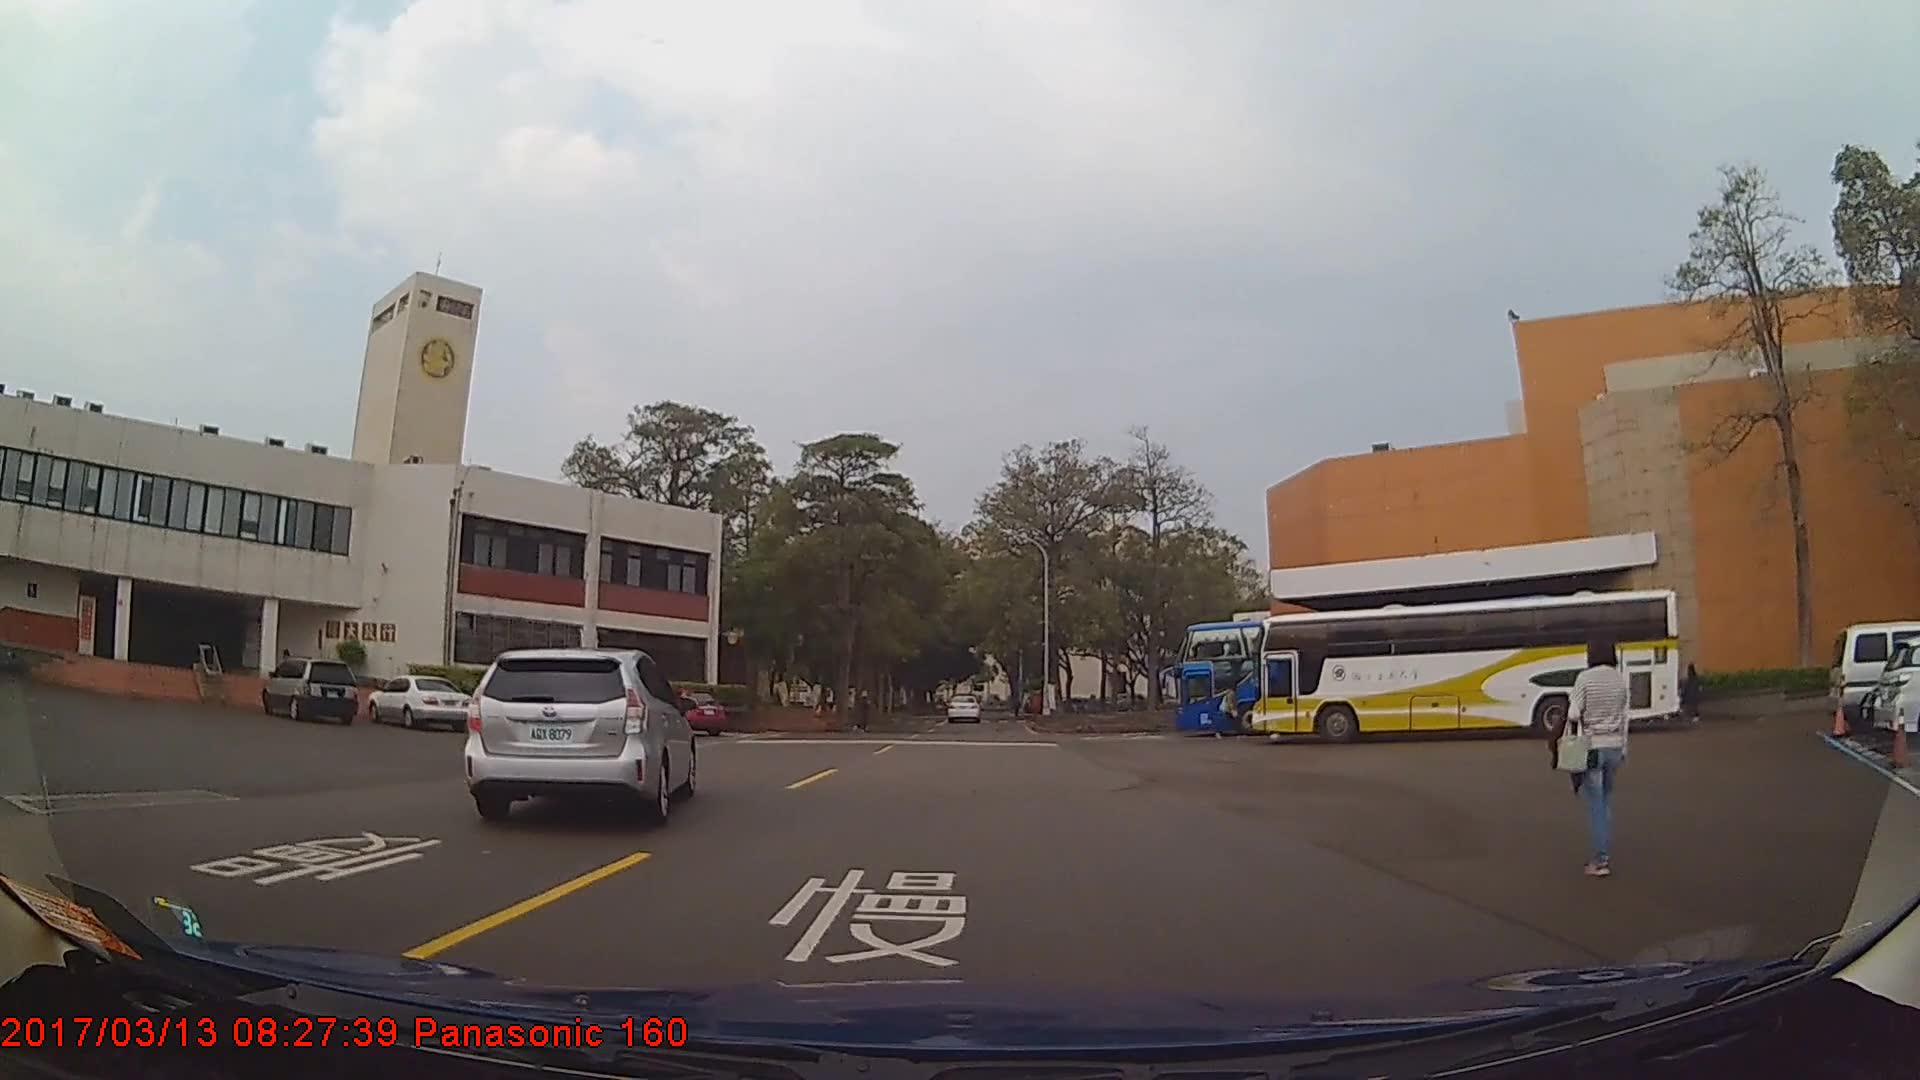pedestrian: (1554, 638, 1635, 874), (1674, 657, 1717, 731), (849, 685, 875, 736)
vehicle: (1248, 588, 1682, 748), (1172, 617, 1545, 741), (467, 647, 695, 825), (1827, 623, 1920, 732), (257, 655, 359, 722), (365, 673, 471, 727), (657, 688, 728, 738), (946, 694, 981, 724)
